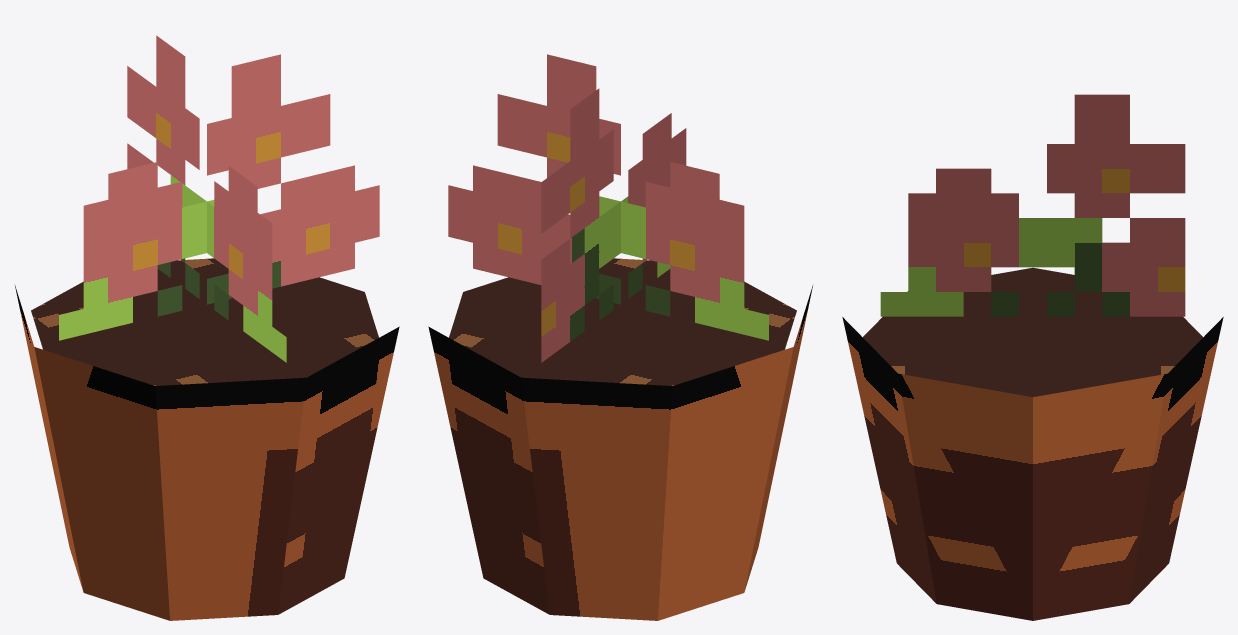
File: pot_S.glb
3 views of the same model, side by side, from view 1: azimuth 30°, elevation 25°; view 2: azimuth 150°, elevation 25°; view 3: azimuth 270°, elevation 25° (orthographic). The views are drawn at different scales.
Parts seen in each view (by area): view 1: pot_S; view 2: pot_S; view 3: pot_S.
Boxes of the visible parts, x1=… form: pot_S: x1=14, y1=35, x2=399, y2=620; pot_S: x1=428, y1=54, x2=813, y2=620; pot_S: x1=842, y1=94, x2=1223, y2=620.
Bounding box in the file's own units: 14 × 19 × 14.
1 material, 1 textured.
